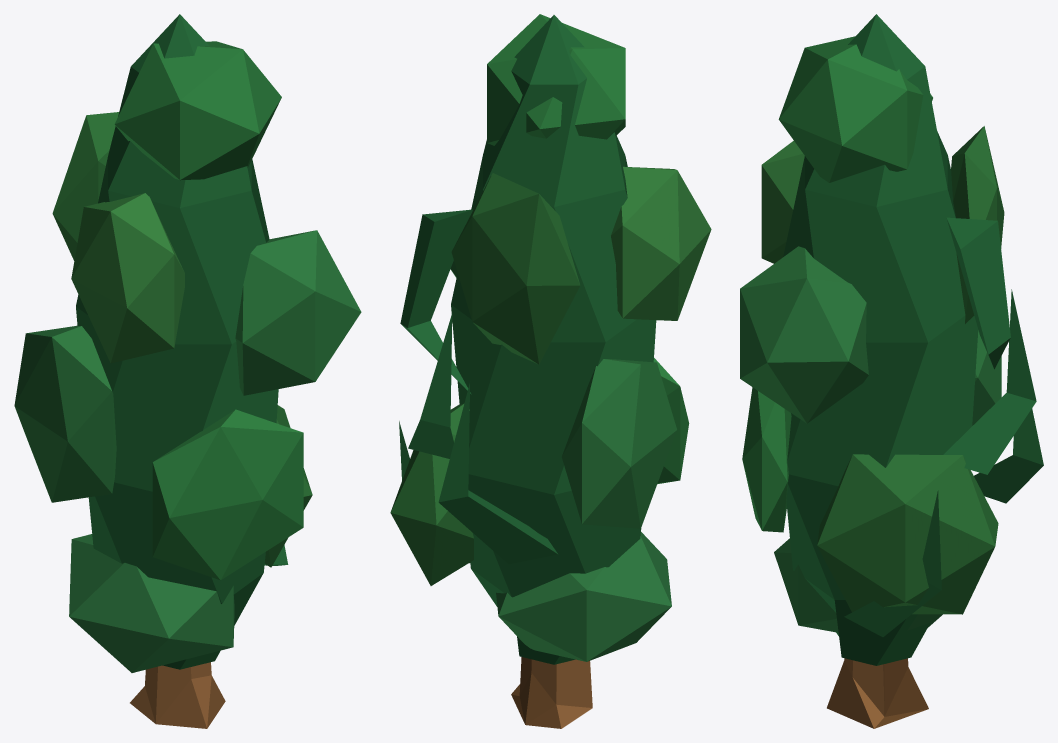
File: cypress_bloom_far.glb
The picture shows the model from 3 angles, left to right: view 1: azimuth 30°, elevation 25°; view 2: azimuth 150°, elevation 25°; view 3: azimuth 270°, elevation 25°; orthographic projection.
Parts seen in each view (by area): view 1: cypress_bloom_far; view 2: cypress_bloom_far; view 3: cypress_bloom_far.
Boxes of the visible parts, <box> form: cypress_bloom_far: <box>14,14,361,728</box>; cypress_bloom_far: <box>390,14,711,728</box>; cypress_bloom_far: <box>740,14,1043,728</box>.
Bounding box in the file's own units: 2.38 × 6.39 × 2.54.
